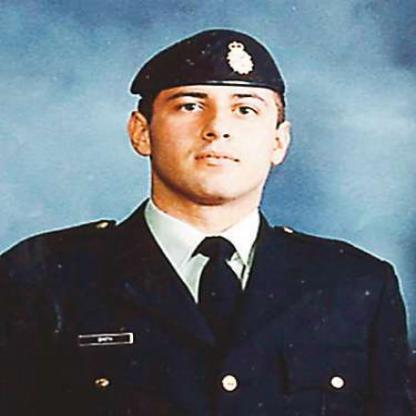face: (148, 35, 283, 205)
